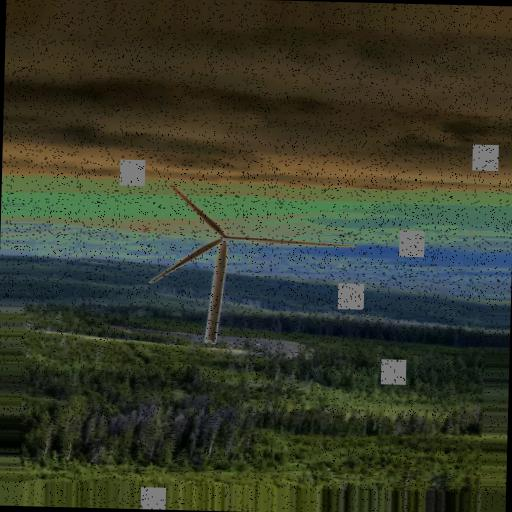wind turbine: (150, 185, 359, 345)
